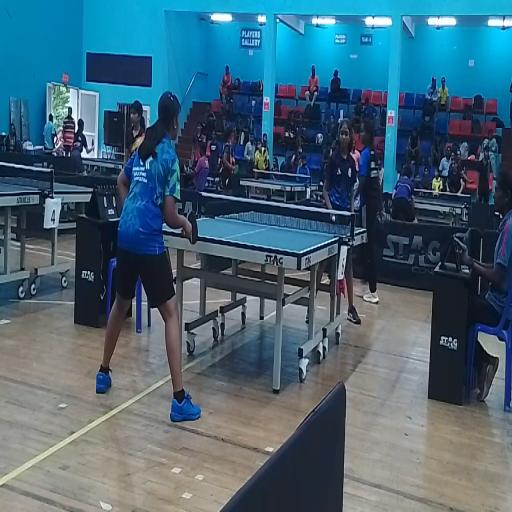ball: (332, 216, 336, 222)
